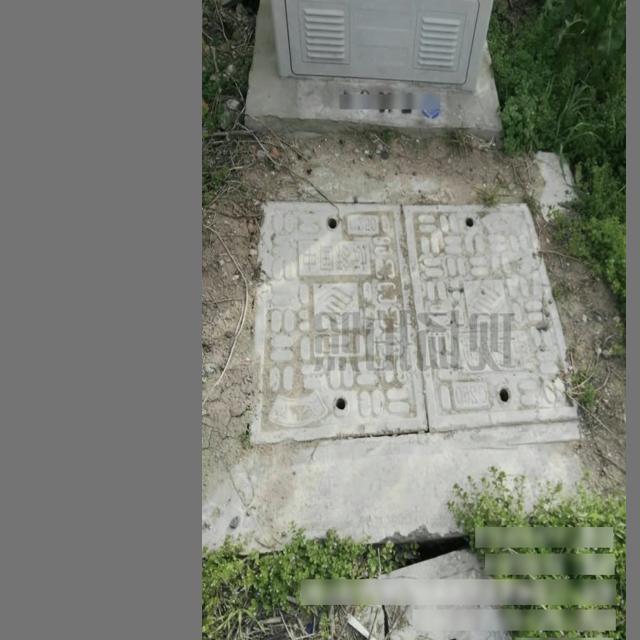good: (250, 200, 584, 451)
